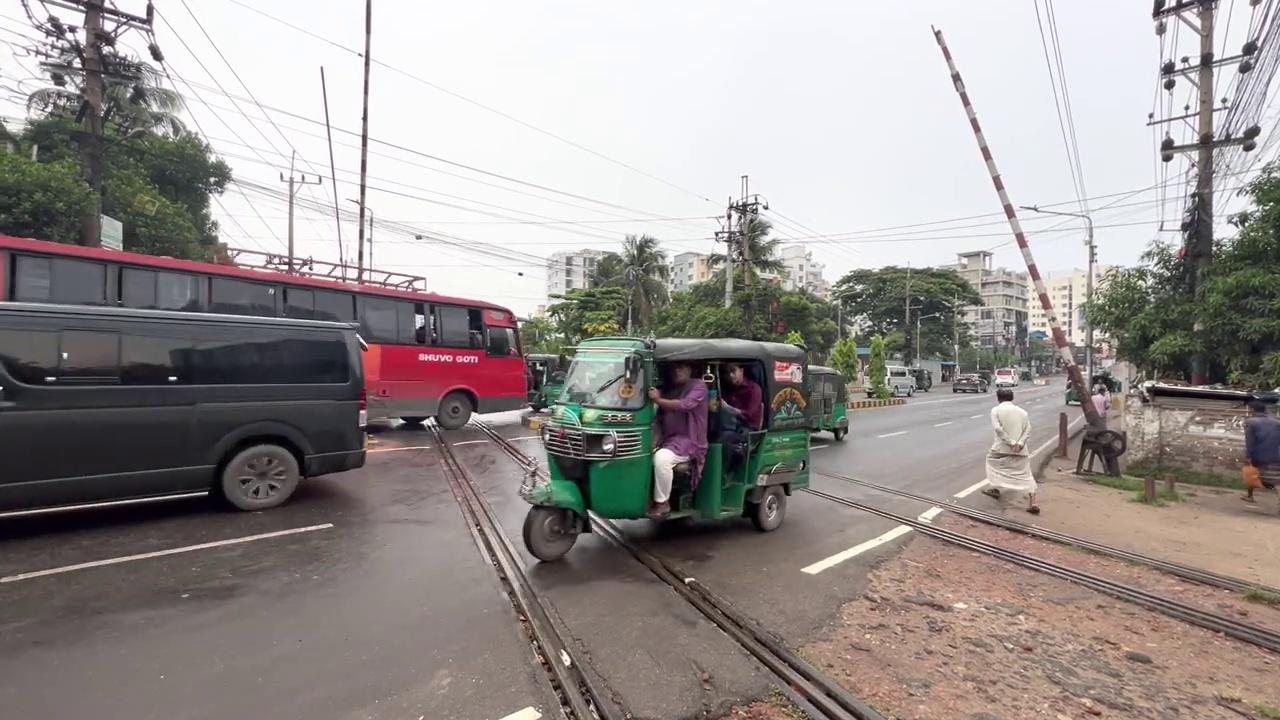Bollard: (0, 270, 410, 558)
Fence: (644, 359, 709, 519), (981, 387, 1040, 513), (712, 361, 763, 483), (1239, 400, 1279, 502)
Garbage: (930, 24, 1101, 420), (1018, 203, 1095, 392), (1188, 0, 1218, 385), (319, 65, 344, 276), (355, 0, 373, 282)
Motorcycle: (421, 412, 883, 718), (796, 464, 1278, 653)
Railroad-crossing: (1079, 160, 1279, 392)
Rickshaw: (518, 333, 817, 562)
